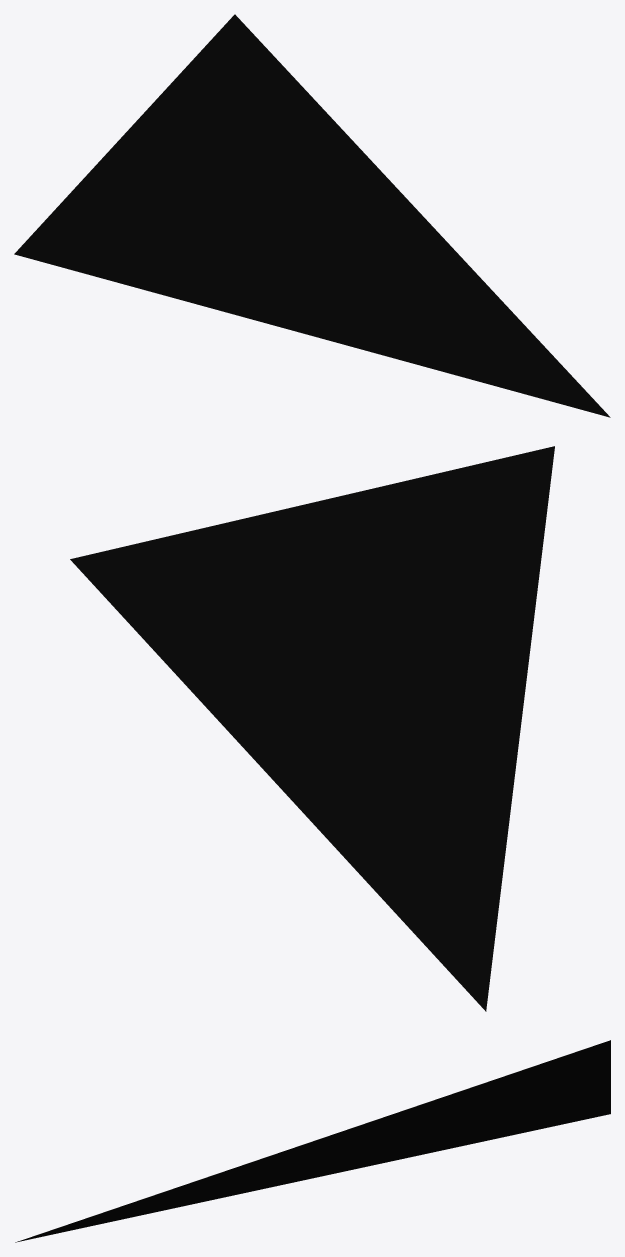
3 views of the same model, one above another, from view 1: azimuth 30°, elevation 25°; view 2: azimuth 150°, elevation 25°; view 3: azimuth 270°, elevation 25° (orthographic). The views are drawn at different scales.
Bounding box in the file's own units: 0.2884 × 0.1832 × 0.5647.
1 material, 1 textured.
